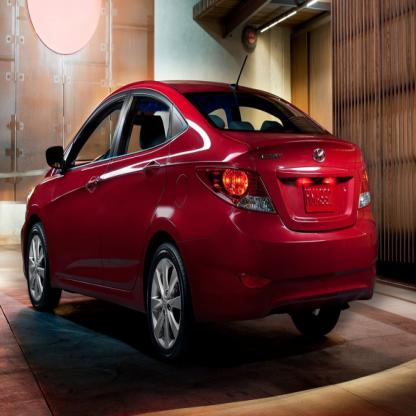Vehicle: (21, 82, 380, 366)
